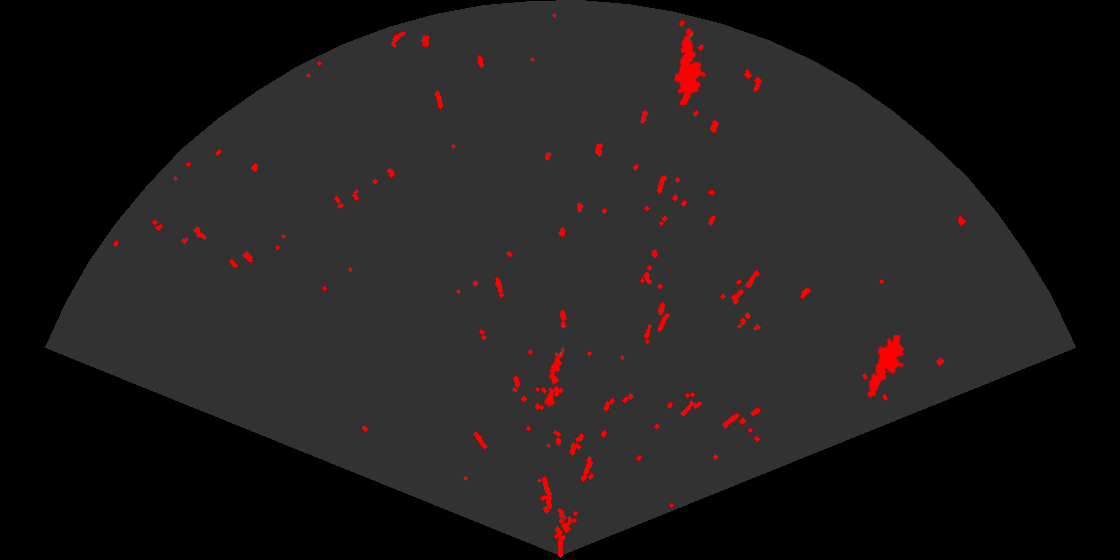chain: (543, 308, 568, 409)
frogman: (673, 26, 708, 105), (866, 335, 906, 400)
